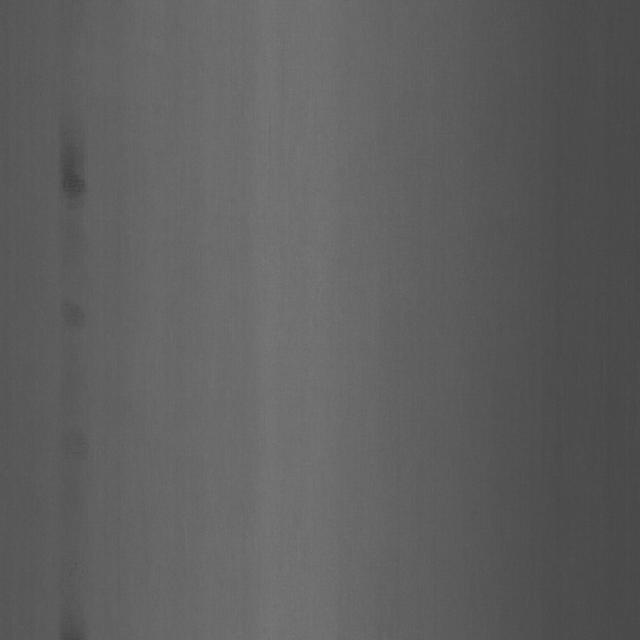welding_line: (52, 124, 99, 200)
